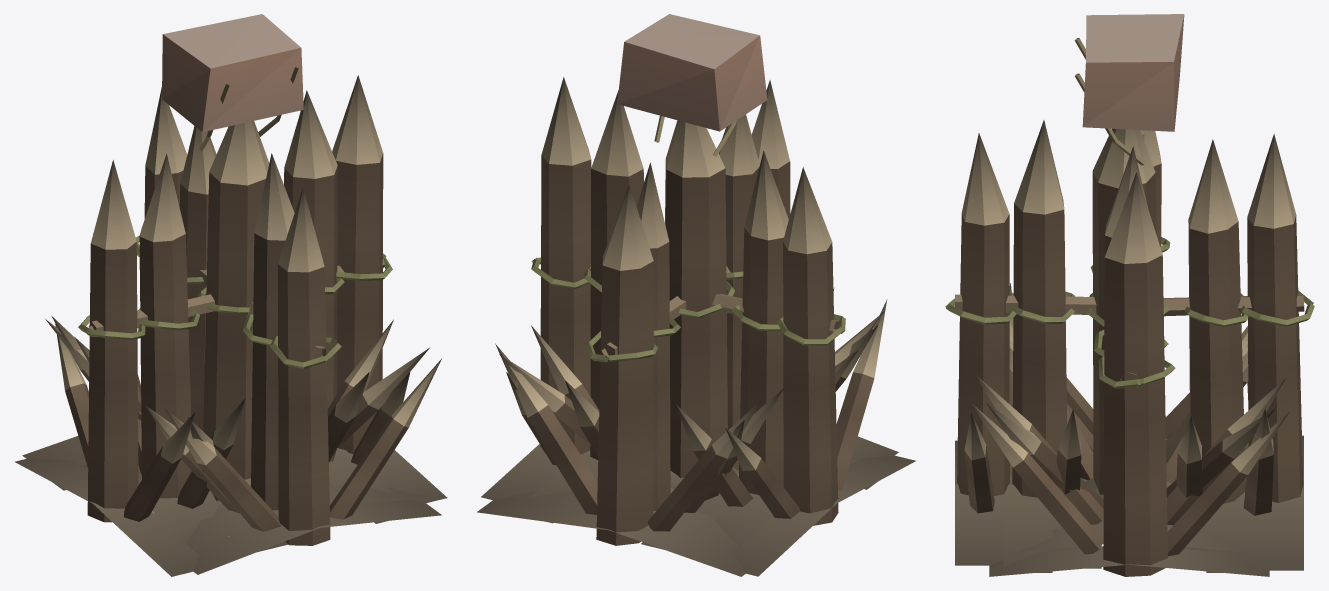
The model's file is rock_palisade_a.glb.
3 renders of one model, left to right at view 1: azimuth 30°, elevation 25°; view 2: azimuth 150°, elevation 25°; view 3: azimuth 270°, elevation 25°, orthographic. The views are drawn at different scales.
Visible parts, largest first — view 1: Run_W, Run_S, Run_E, Post, Rock, Run_N; view 2: Run_W, Run_N, Run_E, Post, Rock, Run_S; view 3: Run_E, Run_S, Run_N, Rock, Post, Run_W.
Boxes of the visible parts, x1,y1,x2,y2 form: Run_W: (14, 154, 288, 576); Run_S: (145, 153, 441, 574); Run_E: (284, 75, 447, 523); Post: (45, 121, 430, 500); Rock: (162, 14, 303, 150); Run_N: (22, 87, 216, 490); Run_W: (641, 150, 915, 576); Run_N: (477, 162, 784, 576); Run_E: (481, 77, 643, 523); Post: (499, 120, 884, 500); Rock: (617, 14, 767, 156); Run_S: (718, 80, 898, 489); Run_E: (969, 146, 1288, 576); Run_S: (945, 120, 1101, 572); Run_N: (1163, 134, 1314, 572); Rock: (1074, 14, 1184, 165); Post: (986, 128, 1274, 508); Run_W: (1009, 130, 1248, 480).
Bounding box in the file's own units: 1.06 × 1.47 × 1.06.
